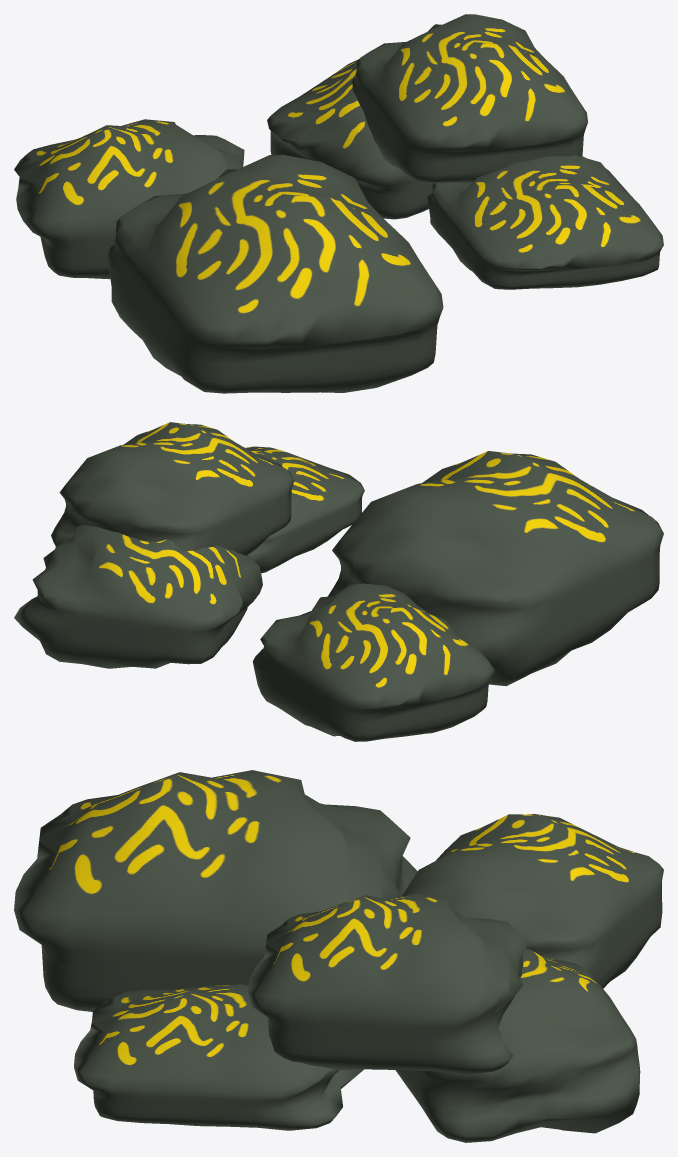
File: stone explosion.fbx
3 renders of one model, top to bottom at view 1: azimuth 30°, elevation 25°; view 2: azimuth 150°, elevation 25°; view 3: azimuth 270°, elevation 25°, orthographic. The views are drawn at different scales.
Visible parts, largest first — view 1: Cube.025, Cube.023, Cube.024, Cube.029, Cube.002; view 2: Cube.025, Cube.029, Cube.002, Cube.023, Cube.024; view 3: Cube.025, Cube.023, Cube.024, Cube.029, Cube.002.
Boxes of the visible parts, left/top/right/bottom form: Cube.025: left=107, top=155, right=443, bottom=393; Cube.023: left=352, top=14, right=587, bottom=183; Cube.024: left=427, top=155, right=663, bottom=289; Cube.029: left=14, top=119, right=244, bottom=279; Cube.002: left=267, top=59, right=432, bottom=219; Cube.025: left=328, top=451, right=663, bottom=686; Cube.029: left=252, top=583, right=494, bottom=741; Cube.002: left=14, top=524, right=262, bottom=668; Cube.023: left=51, top=422, right=294, bottom=555; Cube.024: left=245, top=446, right=364, bottom=573; Cube.025: left=14, top=770, right=417, bottom=1011; Cube.023: left=248, top=893, right=528, bottom=1075; Cube.024: left=74, top=984, right=363, bottom=1130; Cube.029: left=402, top=814, right=663, bottom=988; Cube.002: left=395, top=949, right=640, bottom=1142.
Bounding box in the file's own units: 223 × 90.93 × 221.
1 material, 1 textured.
